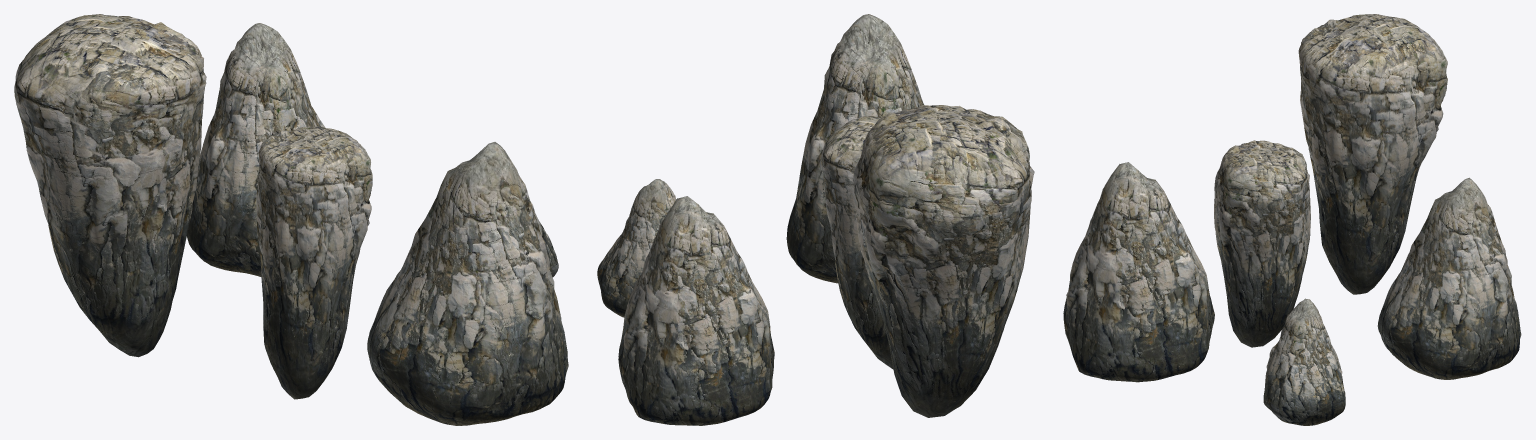
3 renders of one model, left to right at view 1: azimuth 30°, elevation 25°; view 2: azimuth 150°, elevation 25°; view 3: azimuth 270°, elevation 25°, orthographic. The views are drawn at different scales.
Visible parts, largest first — view 1: rock_05, rock_01, rock_02, rock_03; view 2: rock_05, rock_03, rock_01, rock_02, rock_04; view 3: rock_05, rock_01, rock_03, rock_02, rock_04.
Boxes of the visible parts, <box> form: rock_05: <box>14,14,206,357</box>; rock_01: <box>367,142,568,425</box>; rock_02: <box>256,126,372,399</box>; rock_03: <box>187,23,325,276</box>; rock_05: <box>853,105,1034,417</box>; rock_03: <box>618,196,774,425</box>; rock_01: <box>786,14,924,283</box>; rock_02: <box>821,116,893,369</box>; rock_04: <box>597,179,676,317</box>; rock_05: <box>1298,14,1447,294</box>; rock_01: <box>1063,162,1214,382</box>; rock_03: <box>1377,177,1521,379</box>; rock_02: <box>1214,140,1310,347</box>; rock_04: <box>1263,298,1345,425</box>.
Bounding box in the file's own units: 5.25 × 3.55 × 5.36.
1 material, 1 textured.
